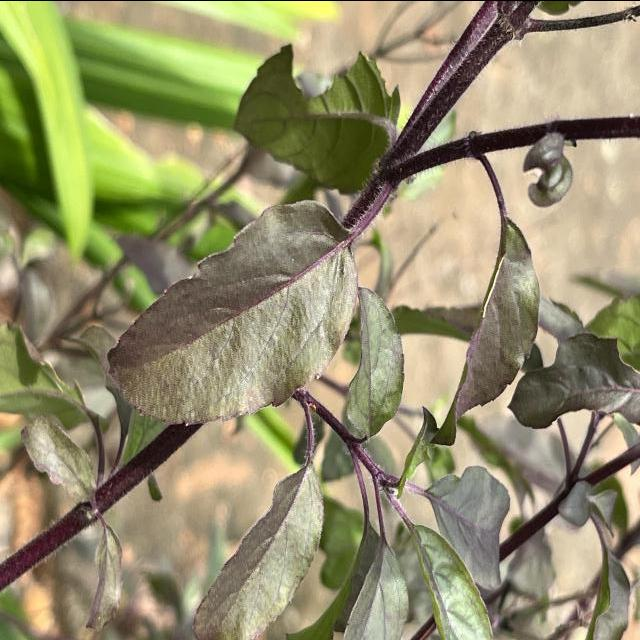Ocimum tenuiflorum: (102, 197, 360, 426)
